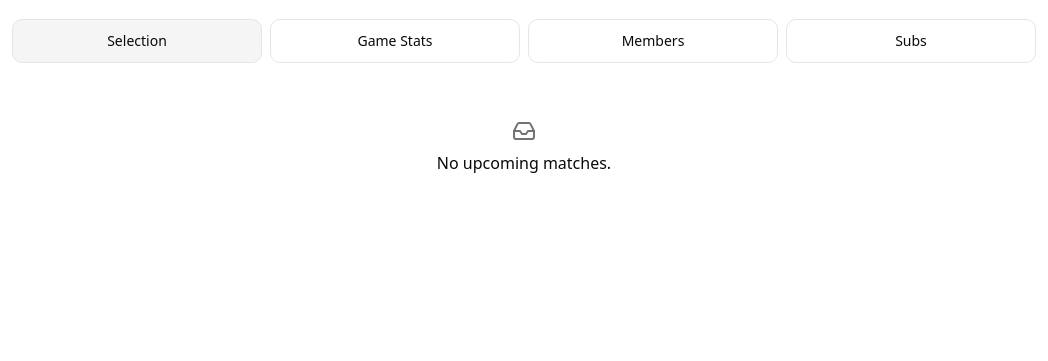
Test: Game Stats view (S17.2 AC2, AC3) › shows the final score once entered, otherwise a prompt to add stats
What coordinates should you click on to do the following:
click the radio button labelled "Game Stats"
I would click on:
 (395, 41)
Its box is [270,19,520,63].
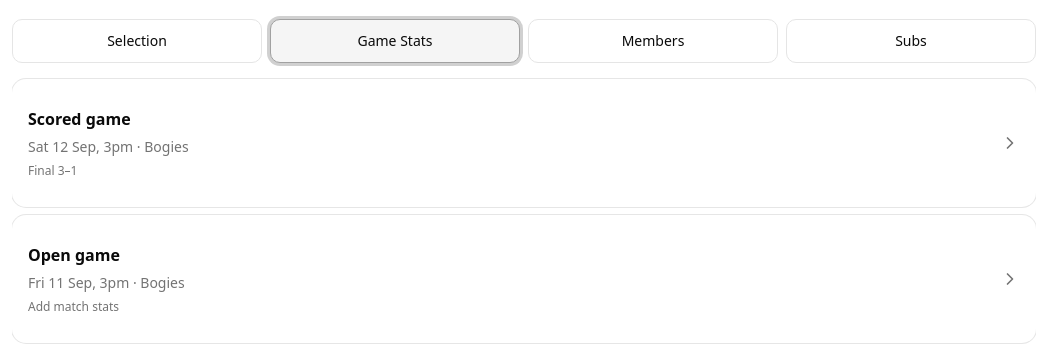
Now the text "Final 3–1" is shown, box [28,162,77,179]
Now the text "Add match stats" is shown, box [28,298,119,315]
